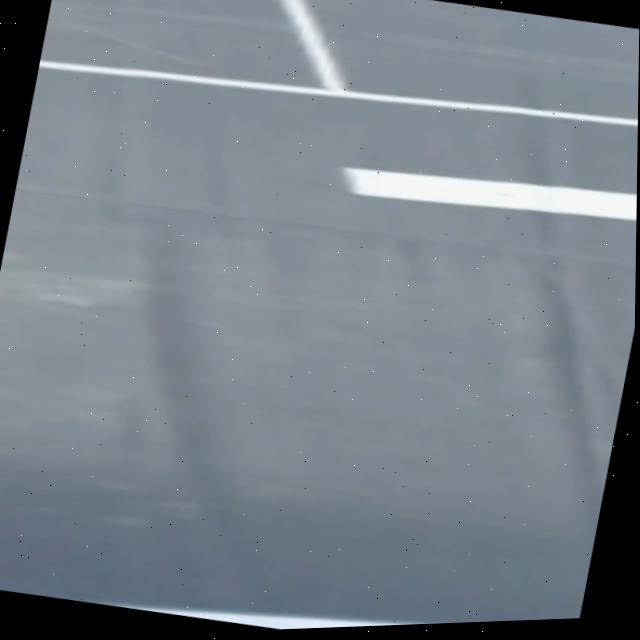center: (345, 168, 637, 220)
left: (109, 605, 424, 629)
